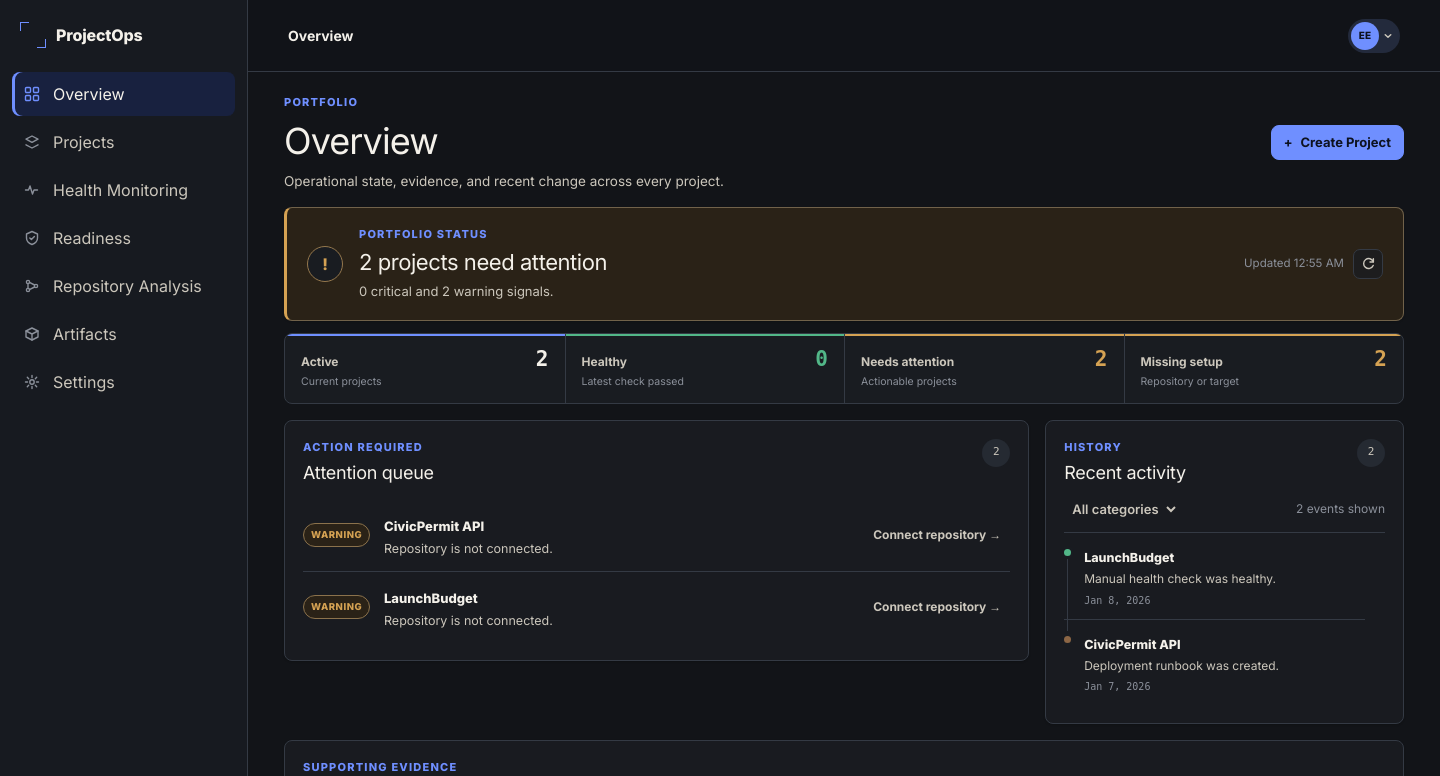
Scenario: Overview activity › filters, clears filters, and shows a filtered no-results state
The width and height of the screenshot is (1440, 776).
Expected: the text "Manual health check was healthy." is shown, [1084,571,1276,586]
Step 1. Select "Artifacts" in the dropdown named "Filter activity by category" → (1122, 509), box [1064,494,1179,524]
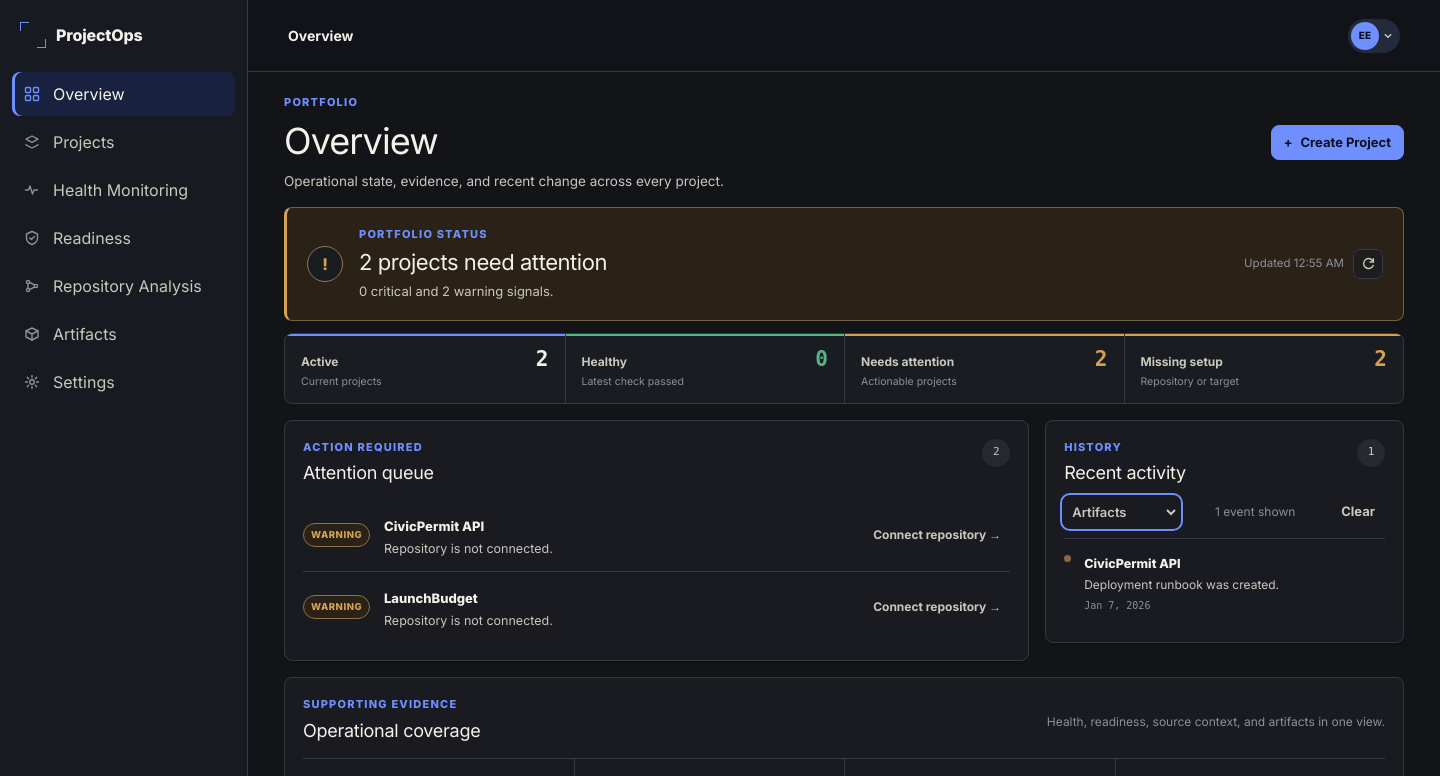
Expected: the text "Deployment runbook was created." is shown, [1084,576,1279,592]
Expected: the text "Manual health check was healthy." is gone
Step 2. Select "Repository" in the dropdown named "Filter activity by category" → (1122, 512), box [1064,497,1179,527]
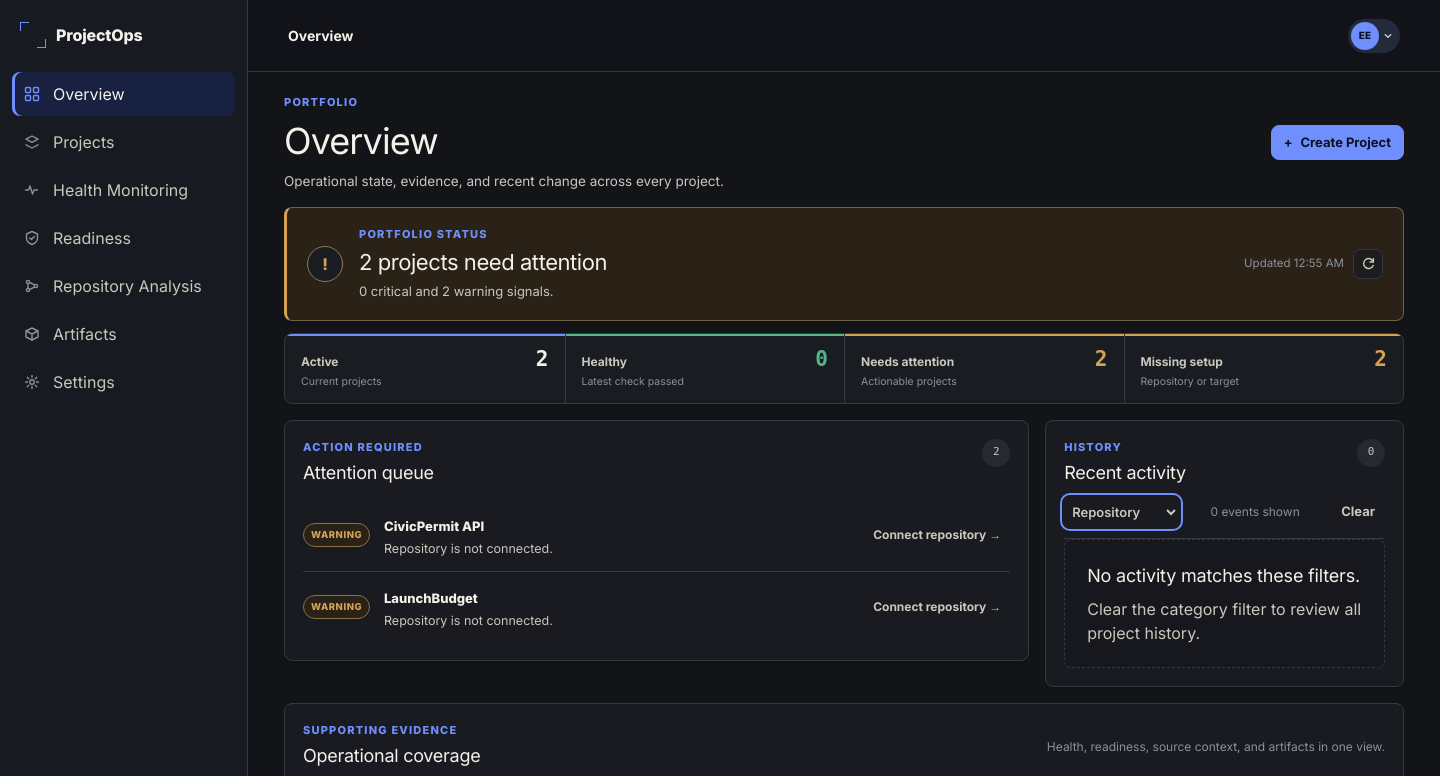
Expected: the heading "No activity matches these filters." is shown, [1087,562,1362,588]
Step 3. Click the button with aria-label "Clear activity filters" → (1358, 512), box [1331,494,1385,530]
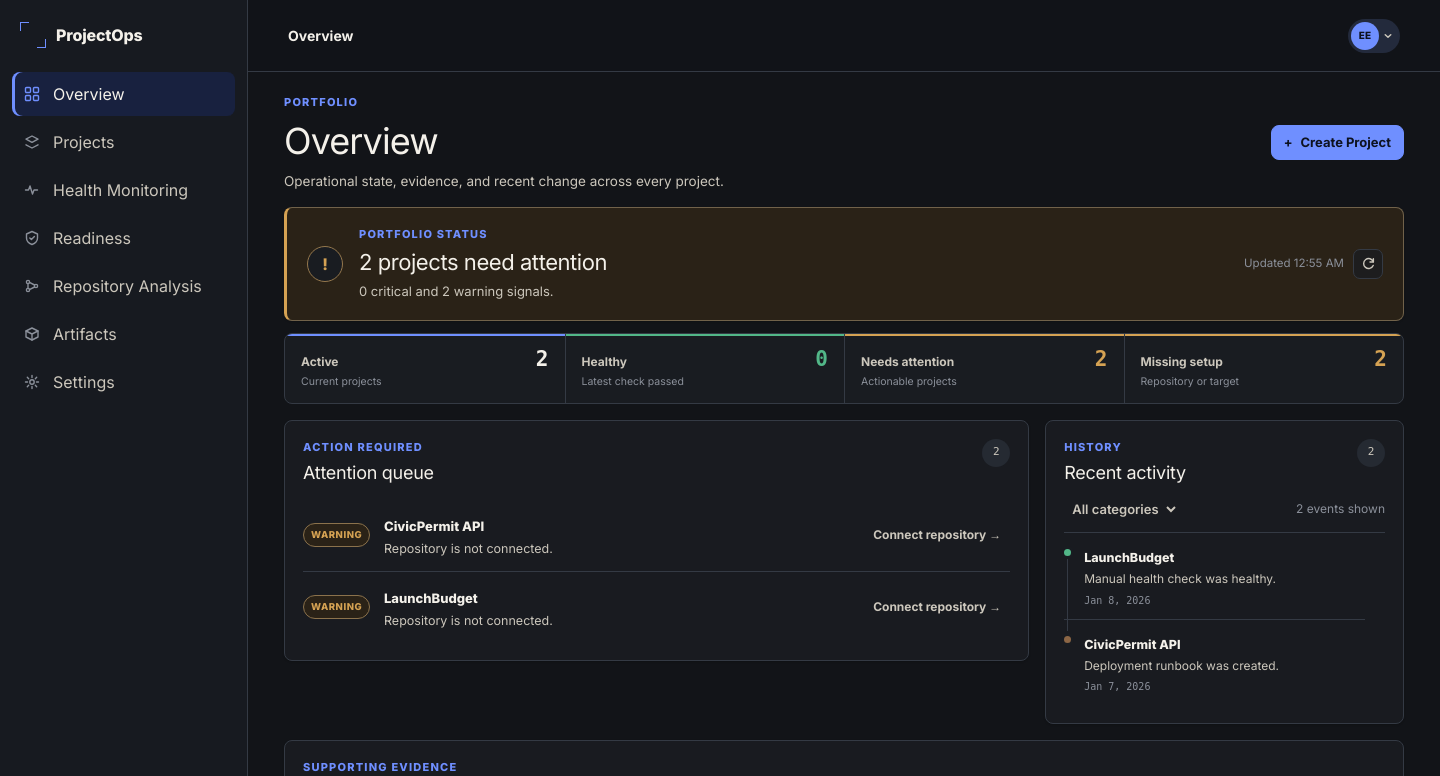
Expected: the text "Manual health check was healthy." is shown, [1084,571,1276,586]
